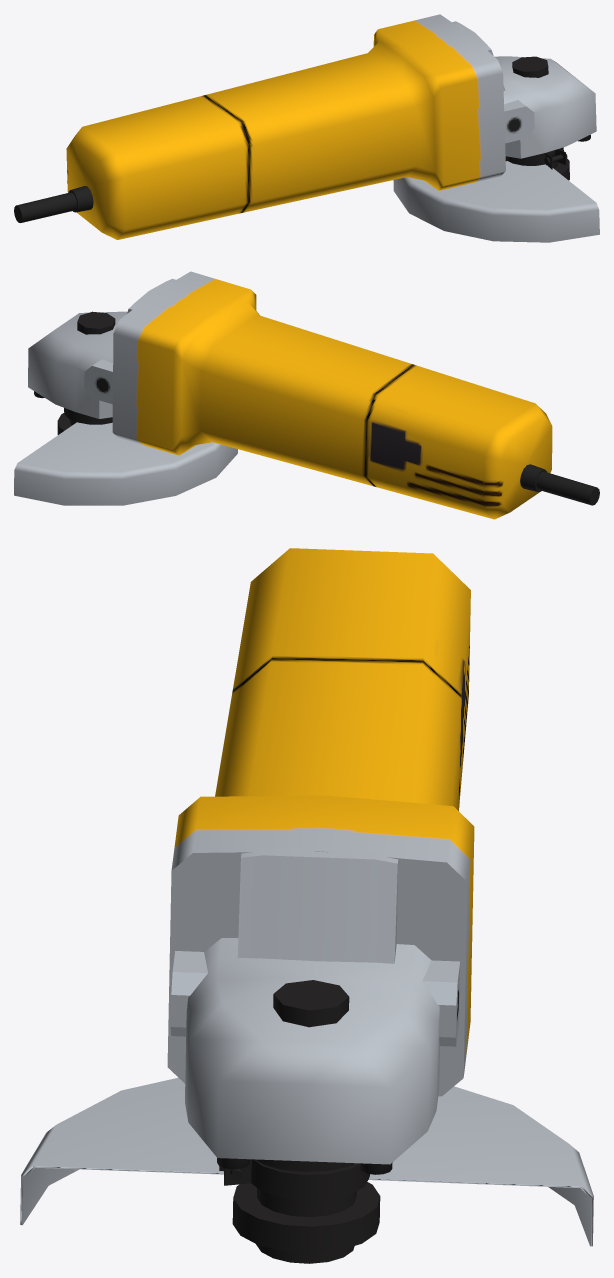
File: jmj.FBX
3 views of the same model, one above another, from view 1: azimuth 30°, elevation 25°; view 2: azimuth 150°, elevation 25°; view 3: azimuth 270°, elevation 25° (orthographic). The views are drawn at different scales.
Visible parts, largest first — view 1: polySurface8777_Gong_ju; view 2: polySurface8777_Gong_ju; view 3: polySurface8777_Gong_ju.
Boxes of the visible parts, left/top/right/bottom form: polySurface8777_Gong_ju: left=14, top=14, right=599, bottom=242; polySurface8777_Gong_ju: left=14, top=271, right=599, bottom=519; polySurface8777_Gong_ju: left=20, top=548, right=593, bottom=1263.
Size of the model in its own units: 27.91 by 8.16 by 12.72.
1 material, 1 textured.
